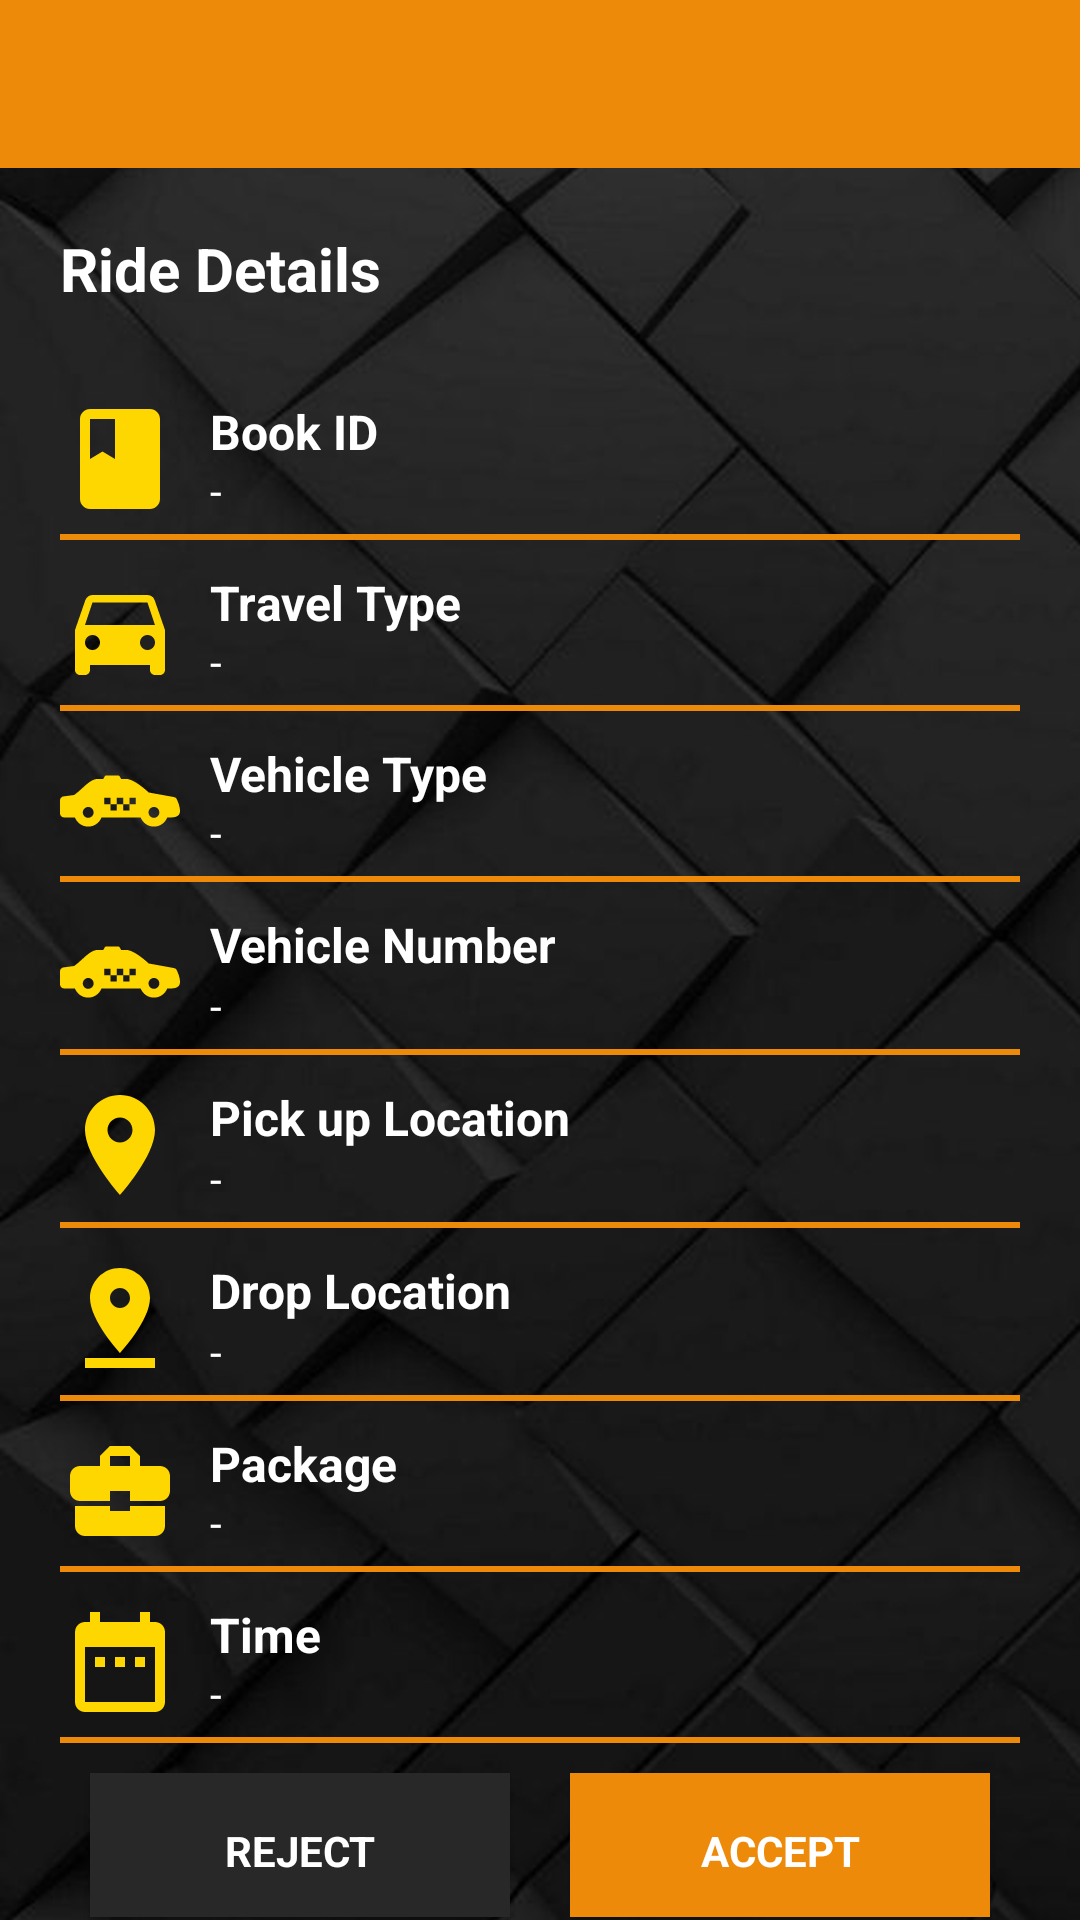

Icons on this 1080*1920 Android screen, each with the point to tap as (x=x, y=y):
business: (x=120, y=1491)
date: (x=120, y=1662)
pin drop: (x=120, y=1318)
room: (x=120, y=1145)
taxi: (x=120, y=801), (x=120, y=972)
